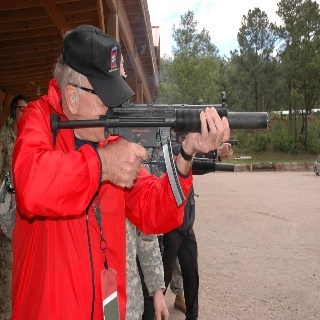rifle: (48, 88, 270, 153)
